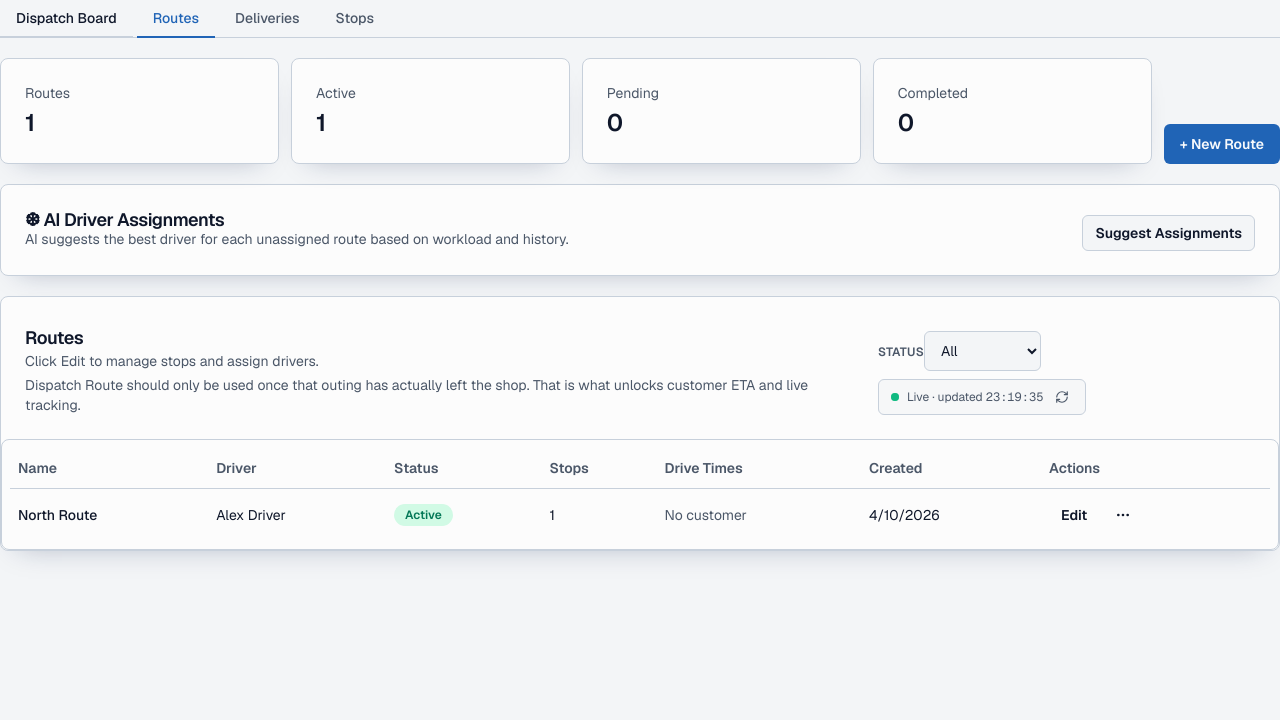
Test: RoutesPage › applies an AI driver suggestion as a linked driver user assignment
expect the text "North Route" is shown: met, box [10, 488, 208, 540]
Click the button "Suggest Assignments".
click(1169, 233)  # box [1082, 215, 1255, 251]
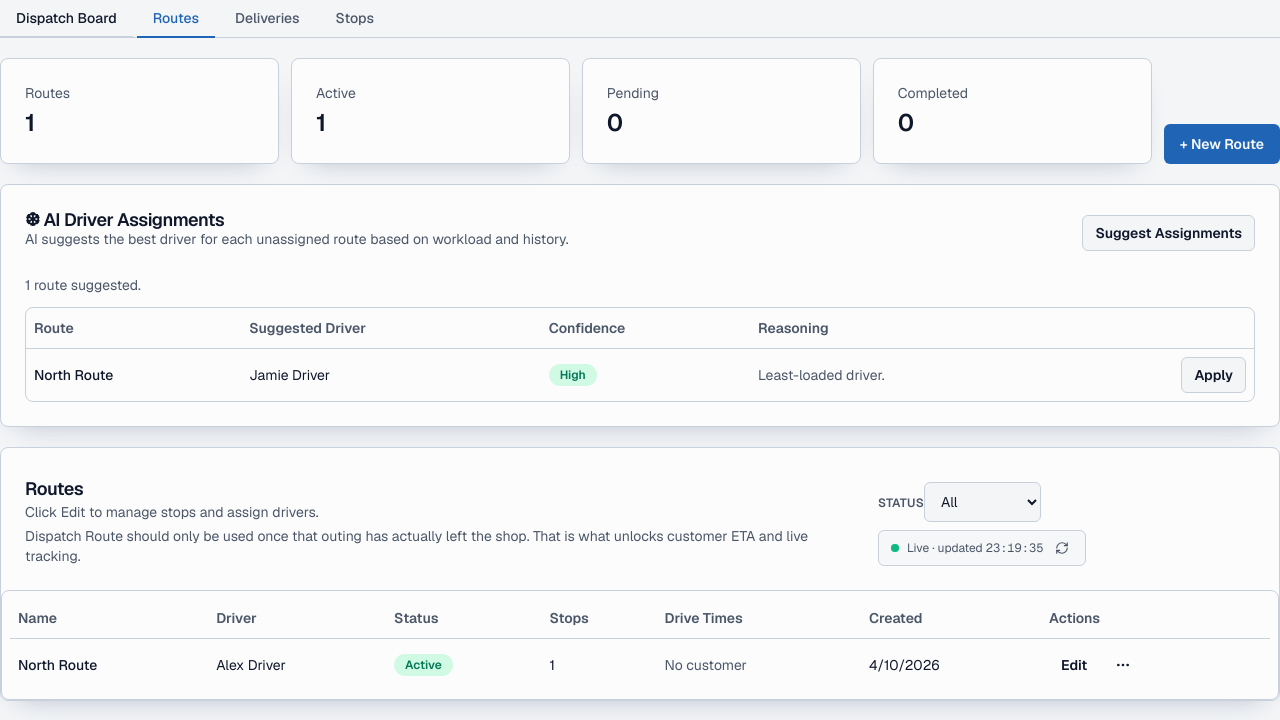
expect the text "Least-loaded driver." is shown: met, box [750, 348, 1072, 400]
Click the button "Apply".
click(1214, 374)  # box [1182, 356, 1246, 392]
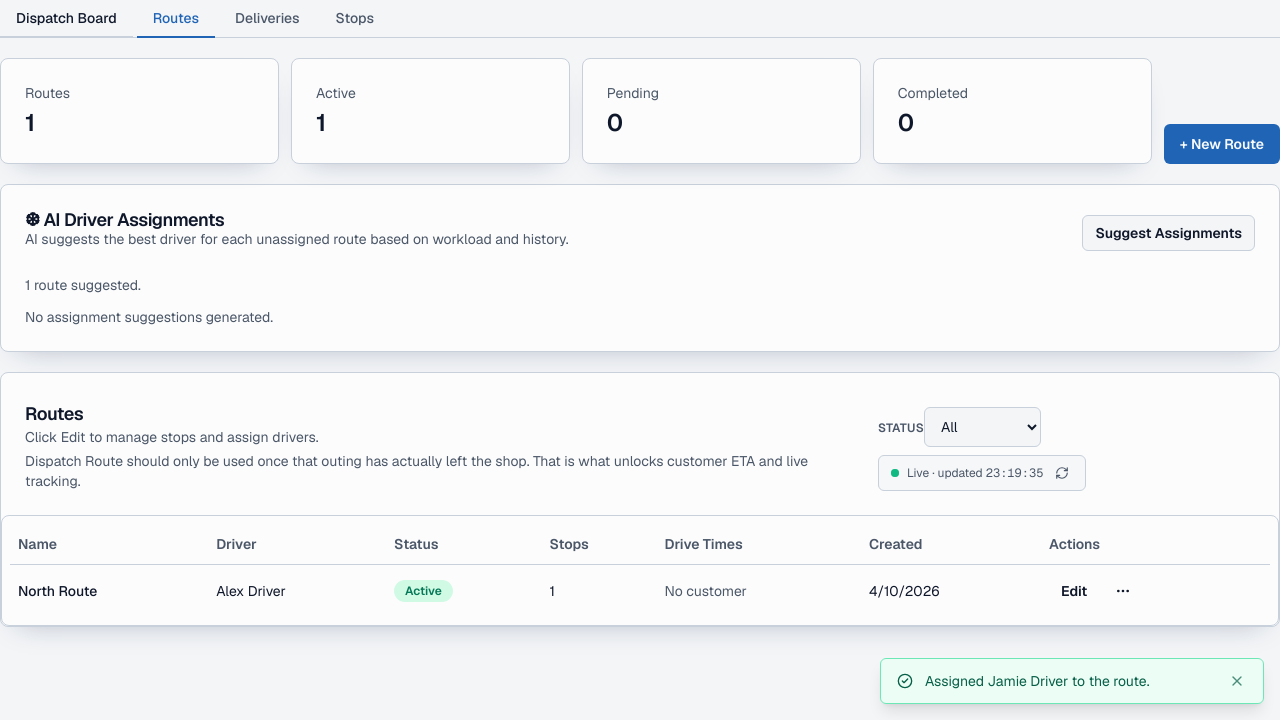
expect the text "Assigned Jamie Driver to the route." is shown: met, box [925, 672, 1150, 690]
